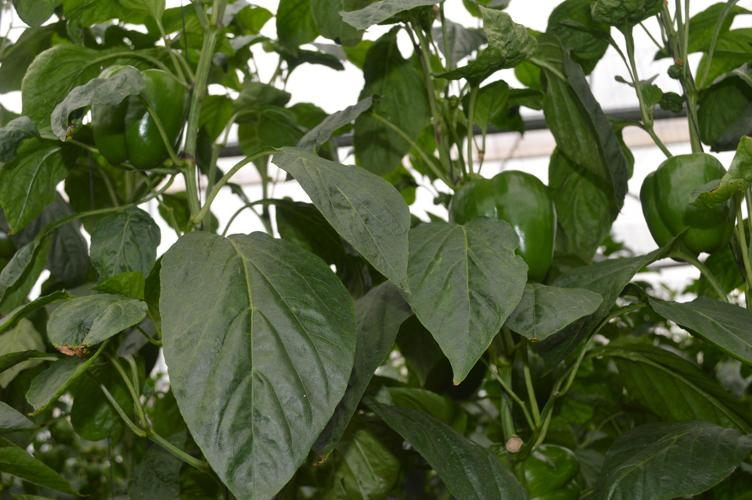BellPepper: (445, 170, 554, 274), (630, 153, 728, 256), (87, 66, 182, 171)
